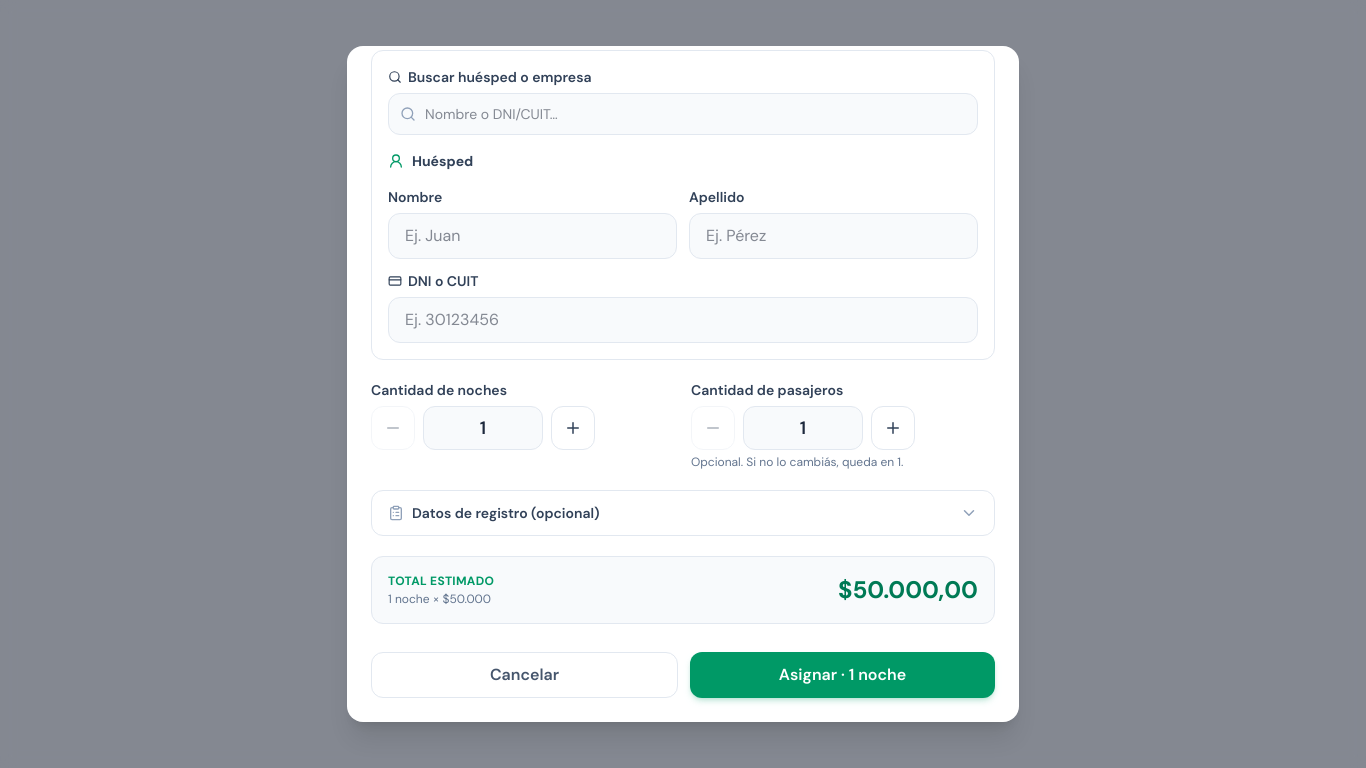
Test: WalkInModal: el botón dice qué falta › el aviso queda arriba del botón y se achica a medida que se completa
(page scrolled)
Click the submit button.
click(842, 675)  # box [690,652,995,698]
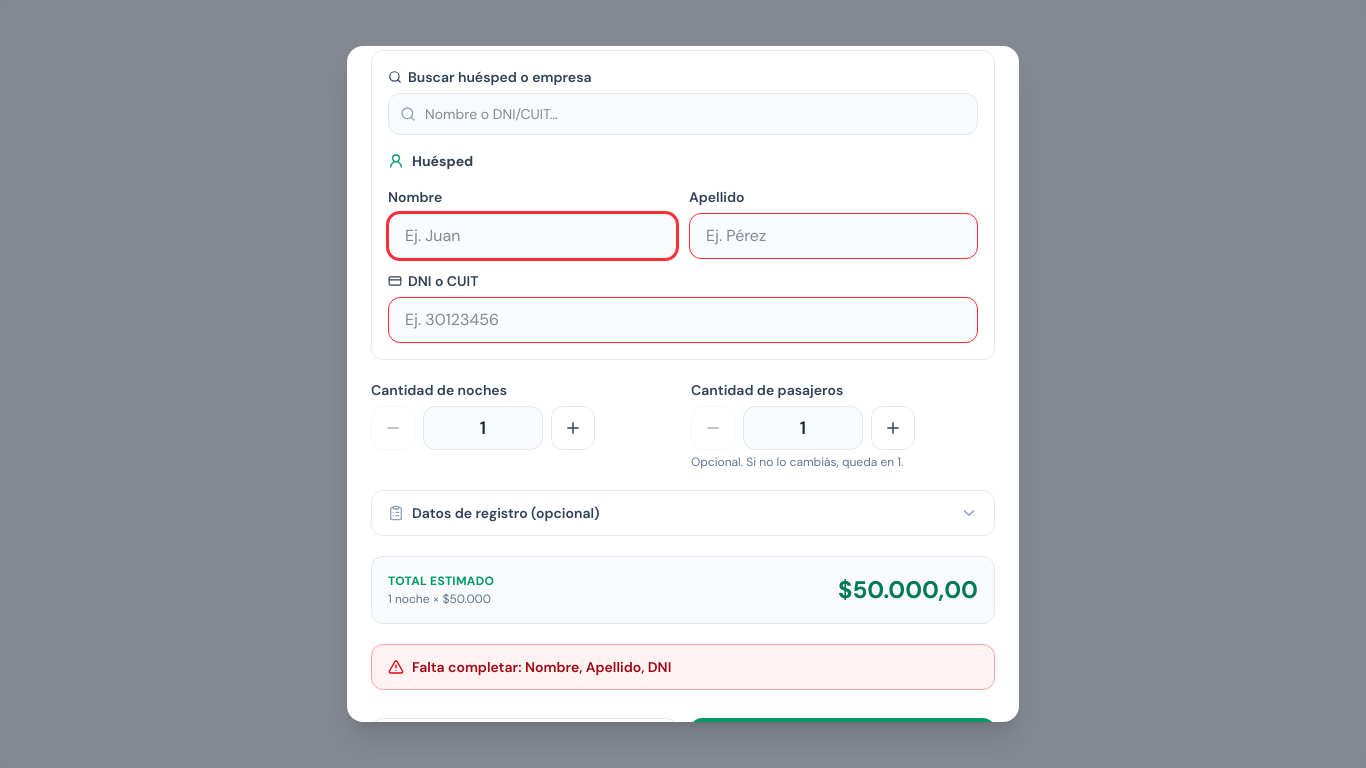
Type "Juan" into the field labelled "Nombre".
click(532, 236); type("Juan")  # box [388,213,677,259]
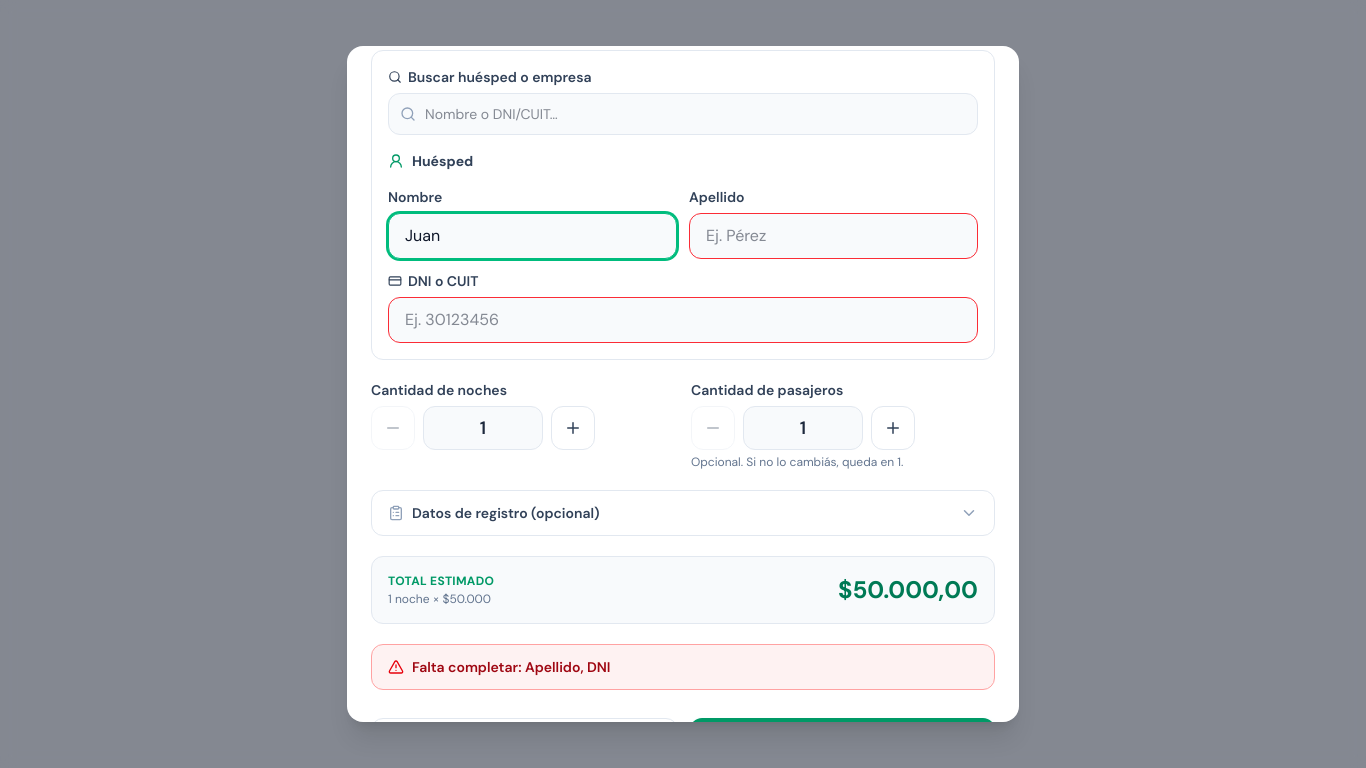
Expected: the text "Falta completar: Apellido, DNI" is shown, [412,657,610,677]
Type "Prueba" into the field labelled "Apellido".
click(834, 236); type("Prueba")  # box [689,213,978,259]
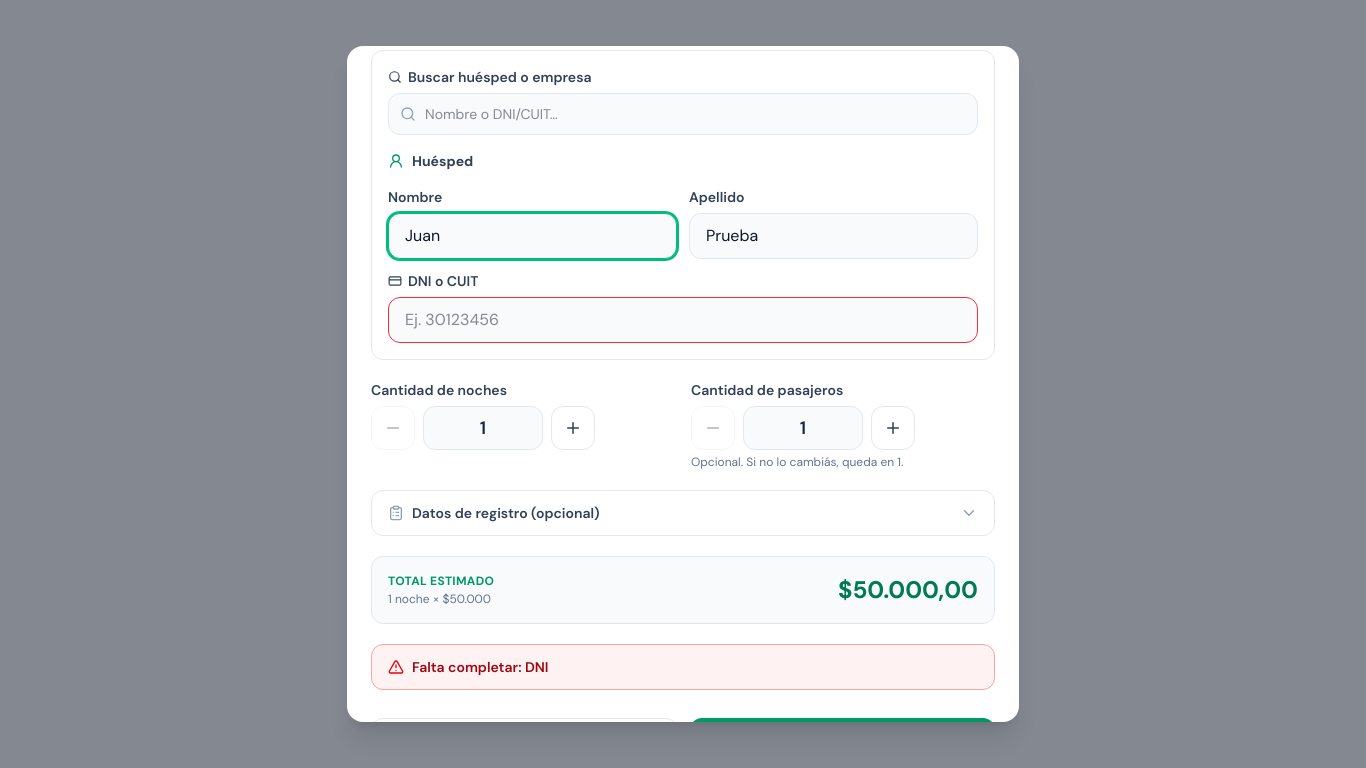
Type "30123456" into the field labelled "DNI o CUIT".
click(683, 320); type("30123456")  # box [388,297,978,343]
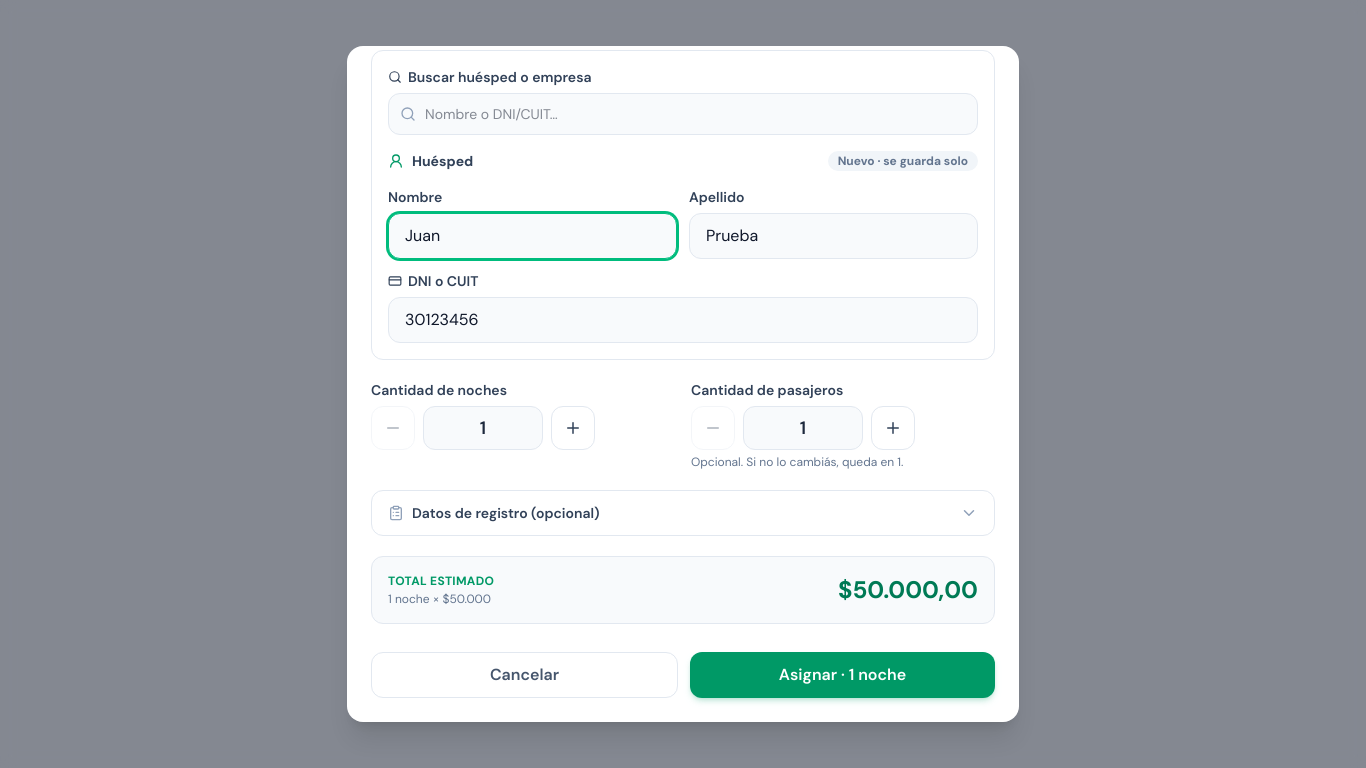
Expected: the message "Falta completar: DNI" is gone
